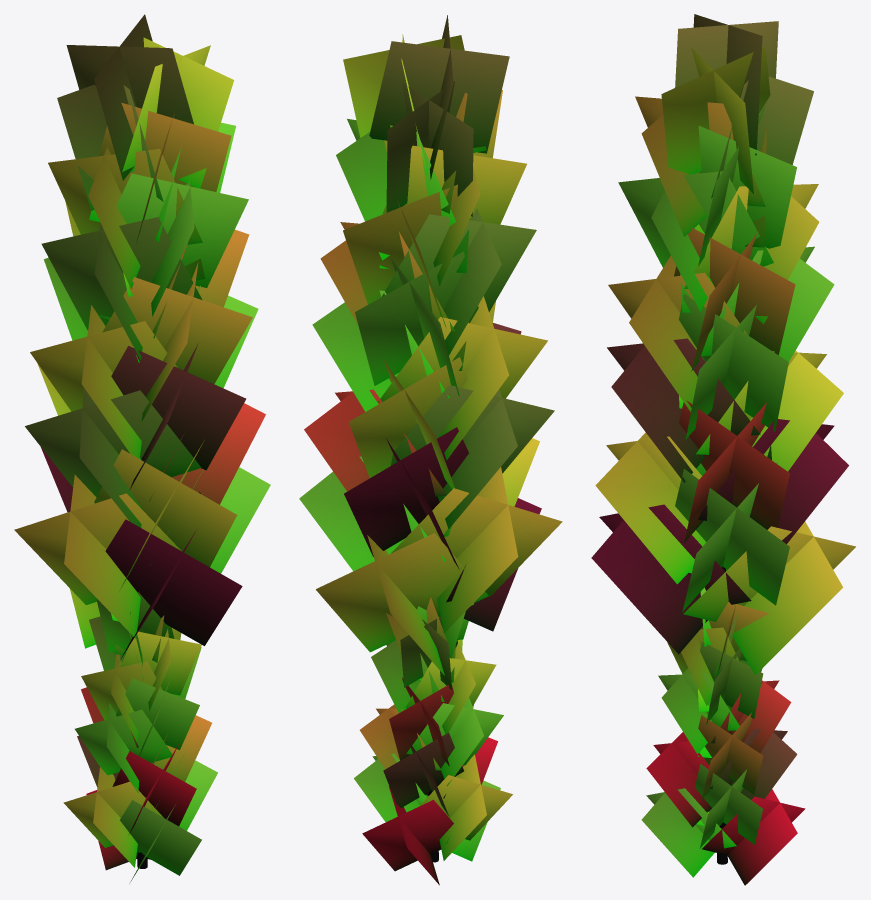
The model's file is Tree_11.fbx.
3 views of the same model, side by side, from view 1: azimuth 30°, elevation 25°; view 2: azimuth 150°, elevation 25°; view 3: azimuth 270°, elevation 25° (orthographic).
Parts seen in each view (by area): view 1: Tree_11; view 2: Tree_11; view 3: Tree_11.
Boxes of the visible parts, x1,y1,x2,y2 form: Tree_11: [14, 14, 270, 883]; Tree_11: [299, 15, 562, 885]; Tree_11: [591, 14, 855, 885].
Size of the model in its own units: 639 by 2317 by 657.
